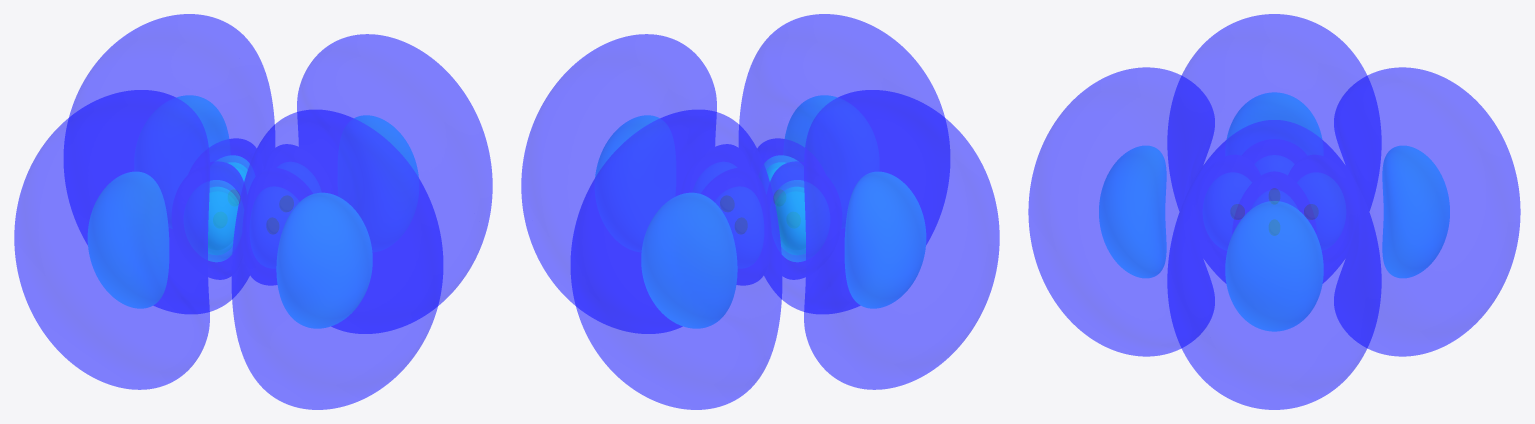
Rendered from orbital_n4_l2_m2_real_multilayer.fbx.
The picture shows the model from 3 angles, left to right: view 1: azimuth 30°, elevation 25°; view 2: azimuth 150°, elevation 25°; view 3: azimuth 270°, elevation 25°; orthographic projection. The views are drawn at different scales.
Parts seen in each view (by area): view 1: orbital_n4_l2_m2_real_multilayer; view 2: orbital_n4_l2_m2_real_multilayer; view 3: orbital_n4_l2_m2_real_multilayer.
Boxes of the visible parts, left/top/right/bottom form: orbital_n4_l2_m2_real_multilayer: left=14, top=14, right=492, bottom=409; orbital_n4_l2_m2_real_multilayer: left=521, top=14, right=999, bottom=409; orbital_n4_l2_m2_real_multilayer: left=1028, top=14, right=1520, bottom=409.
Bounding box in the file's own units: 6847 × 4217 × 6847.
